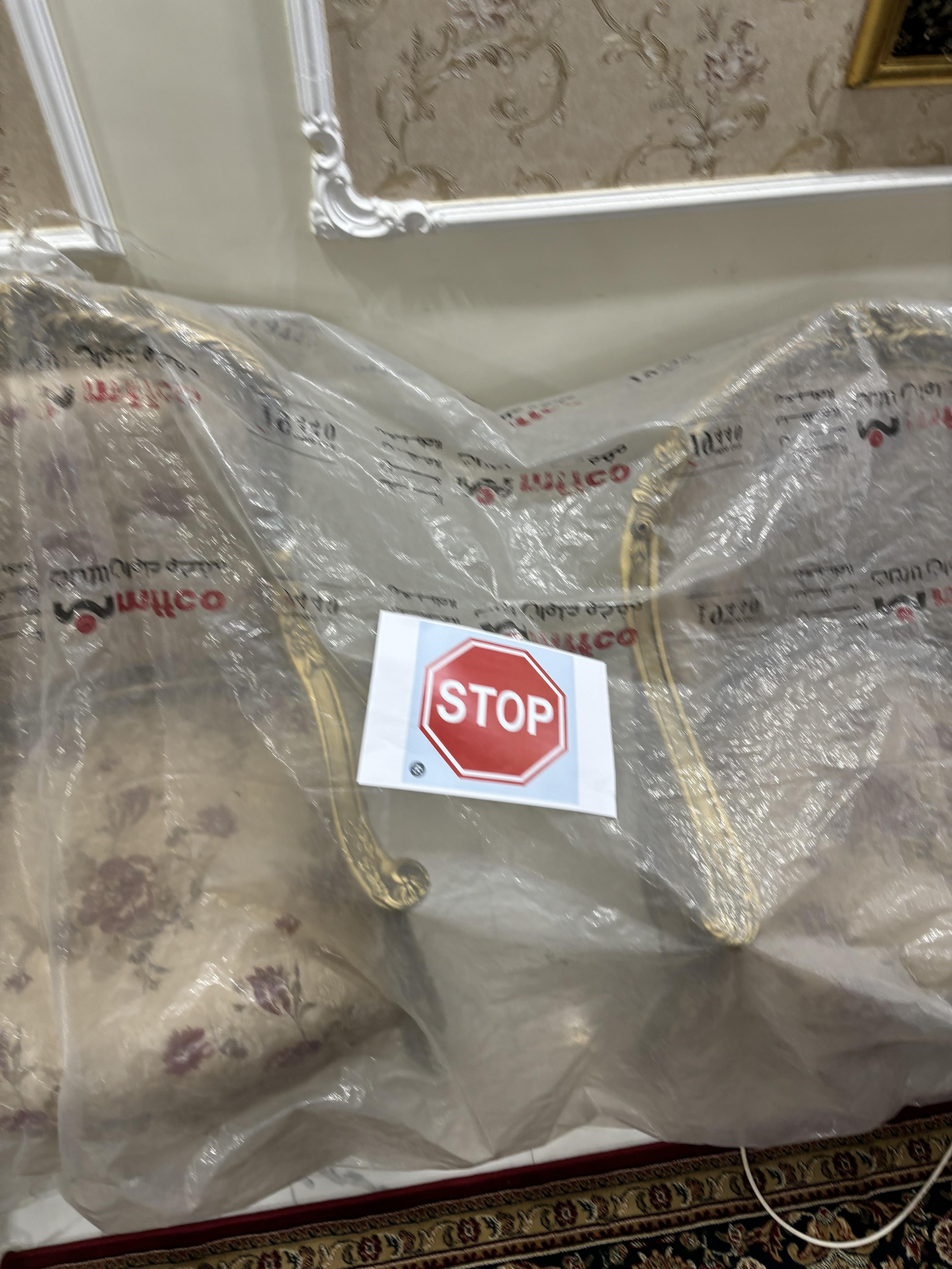Stop: (413, 638, 578, 787)
